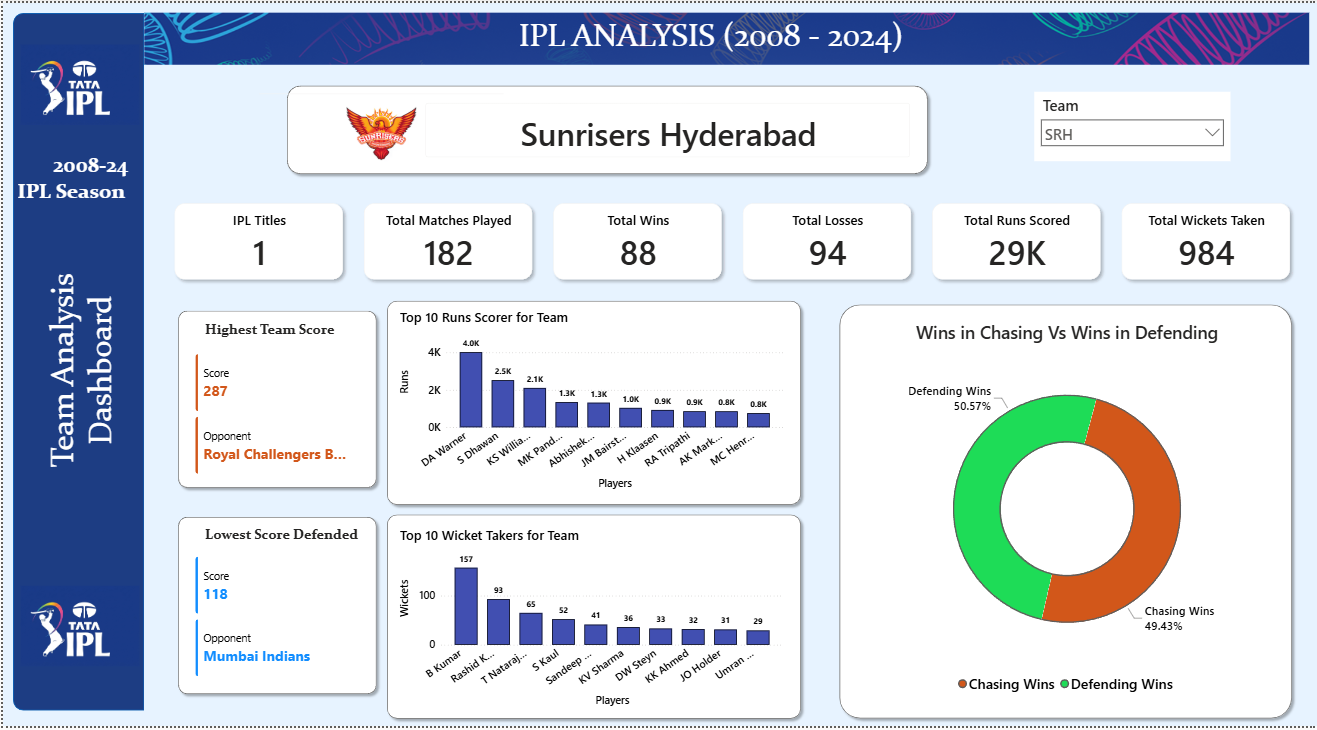

This screenshot's page, from the dashboard's own definition file:
{"tool":"powerbi","page":{"name":"Team Analysis Dashboard","canvas":[2000,1100],"ordinal":3},"visuals":[{"type":"shape","box":[259,460.4,317.4,285.1],"z":0},{"type":"shape","box":[575.5,445.3,645.3,326.4],"z":1000},{"type":"shape","box":[15.2,15.2,199.6,1060.5],"z":2000},{"type":"image","box":[214.8,1.9,1771.3,104.5],"z":3000},{"type":"textbox","box":[779.2,15.2,600.6,76],"z":4000},{"type":"cardVisual","fields":{"Data":["ipl_analysis teams.IPL Titles","ipl_analysis teams.Total Matches Played","ipl_analysis teams.Total Wins","ipl_analysis teams.Total Losses","ipl_analysis teams.Total Runs Scored","ipl_analysis teams.Total Wickets Taken"]},"box":[231.9,275.6,1756.1,174.8],"z":5000},{"type":"shape","box":[36.1,326.9,165.3,463.7],"z":6000},{"type":"image","box":[26.6,55.1,180.5,138.7],"z":7000},{"type":"image","box":[26.6,878,180.5,138.7],"z":8000},{"type":"textbox","box":[17.1,222.4,231.9,104.5],"z":9000},{"type":"columnChart","title":"Top 10 Runs Scorer for Team","fields":{"Category":["ipl_analysis deliveries.batter"],"Y":["ipl_analysis teams.Runs For Team"]},"box":[598.1,464.2,592.5,281.1],"z":10000},{"type":"slicer","fields":{"Values":["ipl_analysis teams.team_name_short"]},"box":[1567.9,135.8,298.1,105.7],"z":11000},{"type":"shape","box":[423.8,117.8,990.2,150.1],"z":12000},{"type":"cardVisual","fields":{"Data":["ipl_analysis teams.Team Name"]},"box":[625.3,134.9,771.6,117.8],"z":13000},{"type":"cardVisual","fields":{"Data":["ipl_analysis teams.Team Logo"]},"box":[372.5,0,406.7,275.6],"z":14000},{"type":"shape","box":[258.5,773.5,317.4,285.1],"z":15000},{"type":"cardVisual","fields":{"Data":["ipl_analysis teams.Highest Team Score","ipl_analysis teams.Highest Score Opponent"]},"box":[275.6,516.9,285.1,216.7],"z":16000},{"type":"textbox","box":[302.2,478.9,243.3,38],"z":17000},{"type":"cardVisual","fields":{"Data":["ipl_analysis teams.Lowest Defended Score","ipl_analysis teams.Lowest Defended Against"]},"box":[275.6,824.8,285.1,216.7],"z":18000},{"type":"textbox","box":[302.2,790.6,245.2,39.9],"z":19000},{"type":"shape","box":[575.5,769.8,645.3,326.4],"z":20000},{"type":"columnChart","title":"Top 10 Wicket Takers for Team","fields":{"Category":["ipl_analysis deliveries.bowler"],"Y":["ipl_analysis teams.Wickets for Team"]},"box":[598.1,794.3,592.5,281.1],"z":21000},{"type":"shape","box":[1264.2,450.9,703.8,645.3],"z":22000},{"type":"donutChart","title":"Wins in Chasing Vs Wins in Defending","fields":{"Y":["ipl_analysis teams.Chasing Wins","ipl_analysis teams.Defending Wins"]},"box":[1305,483,624.5,575],"z":23000}]}

Visuals, with their boxes in screenshot pixels (x1, y1, x2, y2), scaled from the page's 2000x1100 canvas onto the 1317x730 screenshot:
shape: select_region(171, 306, 380, 495)
shape: select_region(379, 296, 804, 512)
shape: select_region(10, 10, 141, 714)
image: select_region(141, 1, 1308, 71)
textbox: select_region(513, 10, 909, 61)
cardVisual - ipl_analysis teams.IPL Titles x ipl_analysis teams.Total Matches Played: select_region(153, 183, 1309, 299)
shape: select_region(24, 217, 133, 525)
image: select_region(18, 37, 136, 129)
image: select_region(18, 583, 136, 675)
textbox: select_region(11, 148, 164, 217)
"Top 10 Runs Scorer for Team" columnChart: select_region(394, 308, 784, 495)
slicer - ipl_analysis teams.team_name_short: select_region(1032, 90, 1229, 160)
shape: select_region(279, 78, 931, 178)
cardVisual - ipl_analysis teams.Team Name: select_region(412, 90, 920, 168)
cardVisual - ipl_analysis teams.Team Logo: select_region(245, 0, 513, 183)
shape: select_region(170, 513, 379, 703)
cardVisual - ipl_analysis teams.Highest Team Score x ipl_analysis teams.Highest Score Opponent: select_region(181, 343, 369, 487)
textbox: select_region(199, 318, 359, 343)
cardVisual - ipl_analysis teams.Lowest Defended Score x ipl_analysis teams.Lowest Defended Against: select_region(181, 547, 369, 691)
textbox: select_region(199, 525, 360, 551)
shape: select_region(379, 511, 804, 727)
"Top 10 Wicket Takers for Team" columnChart: select_region(394, 527, 784, 714)
shape: select_region(832, 299, 1296, 727)
"Wins in Chasing Vs Wins in Defending" donutChart: select_region(859, 321, 1271, 702)
